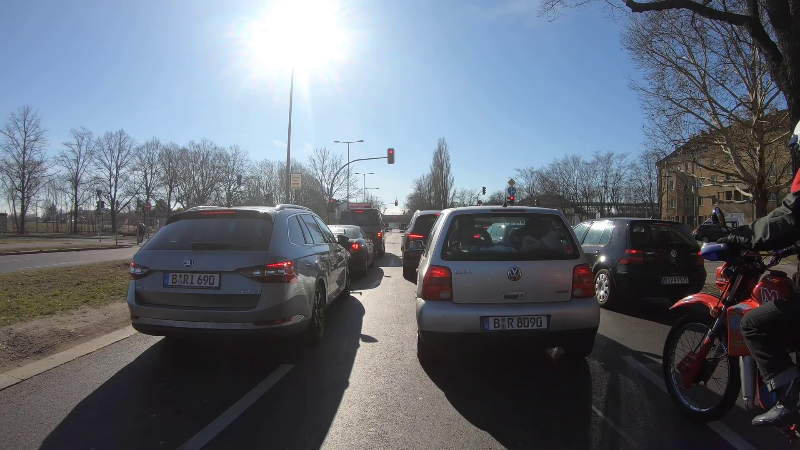Plate: (481, 314, 553, 333), (161, 268, 224, 289), (659, 275, 692, 286)
